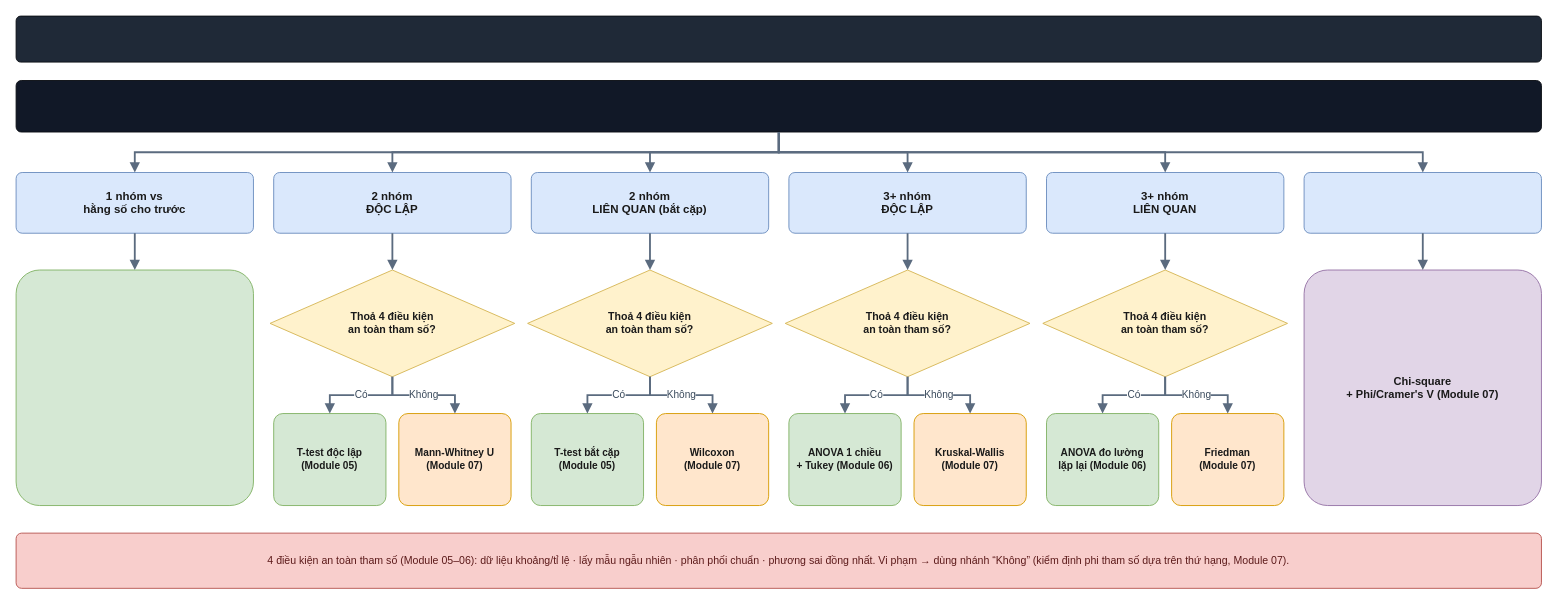
Image size: 1558x604. Some labels were removed from this diagram. Here are the shapes that lost their labels. From the top down, the box of each, then its label:
(15, 15, 1541, 62): Chọn đúng kiểm định thống kê — cây quyết định (Module 05–07)
(15, 80, 1541, 132): Bạn muốn so sánh điều gì?
(1303, 172, 1541, 233): 2 biến ĐỊNH DANH (không so trung bình)
(15, 269, 253, 506): T-test một mẫu (one-sample t-test)
